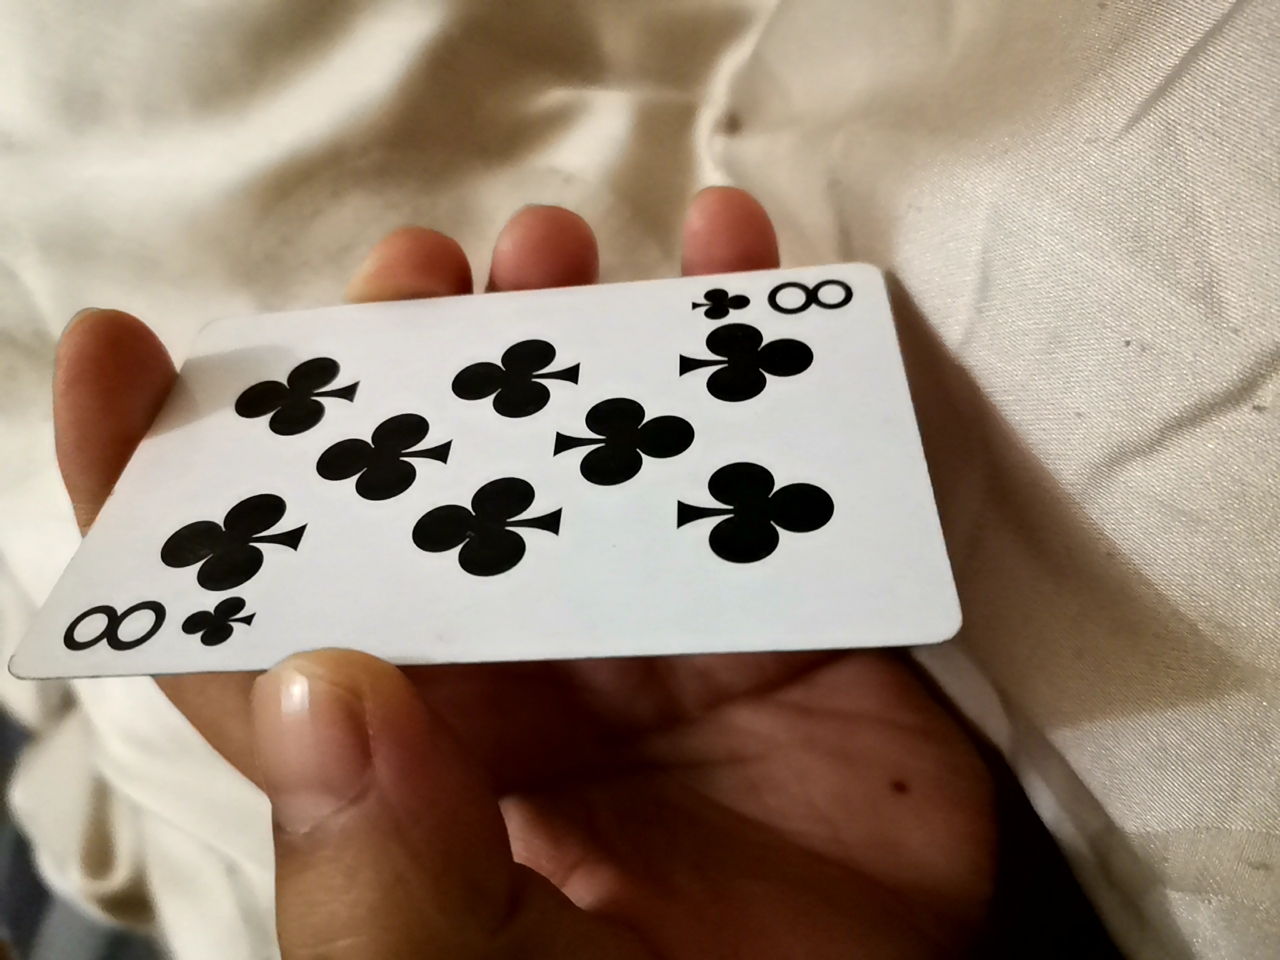mh 8: (27, 280, 950, 670)
